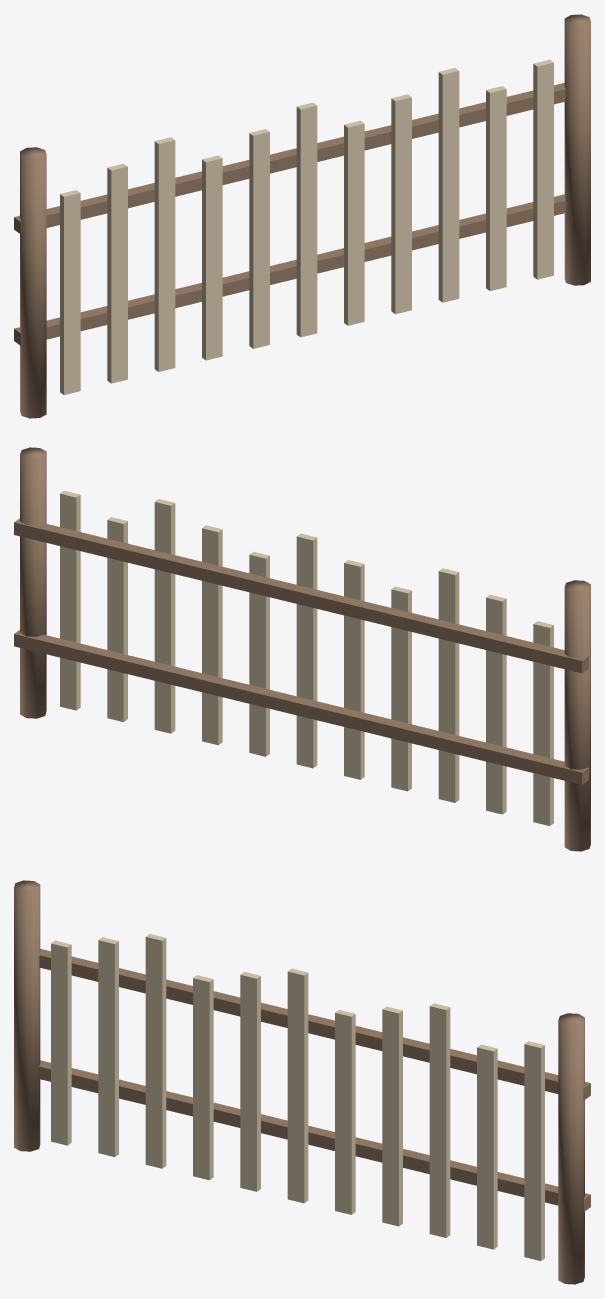
Rendered from dune_fence.glb.
3 renders of one model, top to bottom at view 1: azimuth 30°, elevation 25°; view 2: azimuth 150°, elevation 25°; view 3: azimuth 330°, elevation 25°, orthographic.
Visible parts, largest first — view 1: dune_fence; view 2: dune_fence; view 3: dune_fence.
Part boxes in pixels (<box>): dune_fence: <box>14,14,590,418</box>; dune_fence: <box>14,447,590,851</box>; dune_fence: <box>14,880,590,1284</box>.
Bounding box in the file's own units: 2.4 × 1.05 × 0.105.
